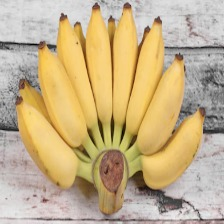banana: (55, 24, 197, 192)
